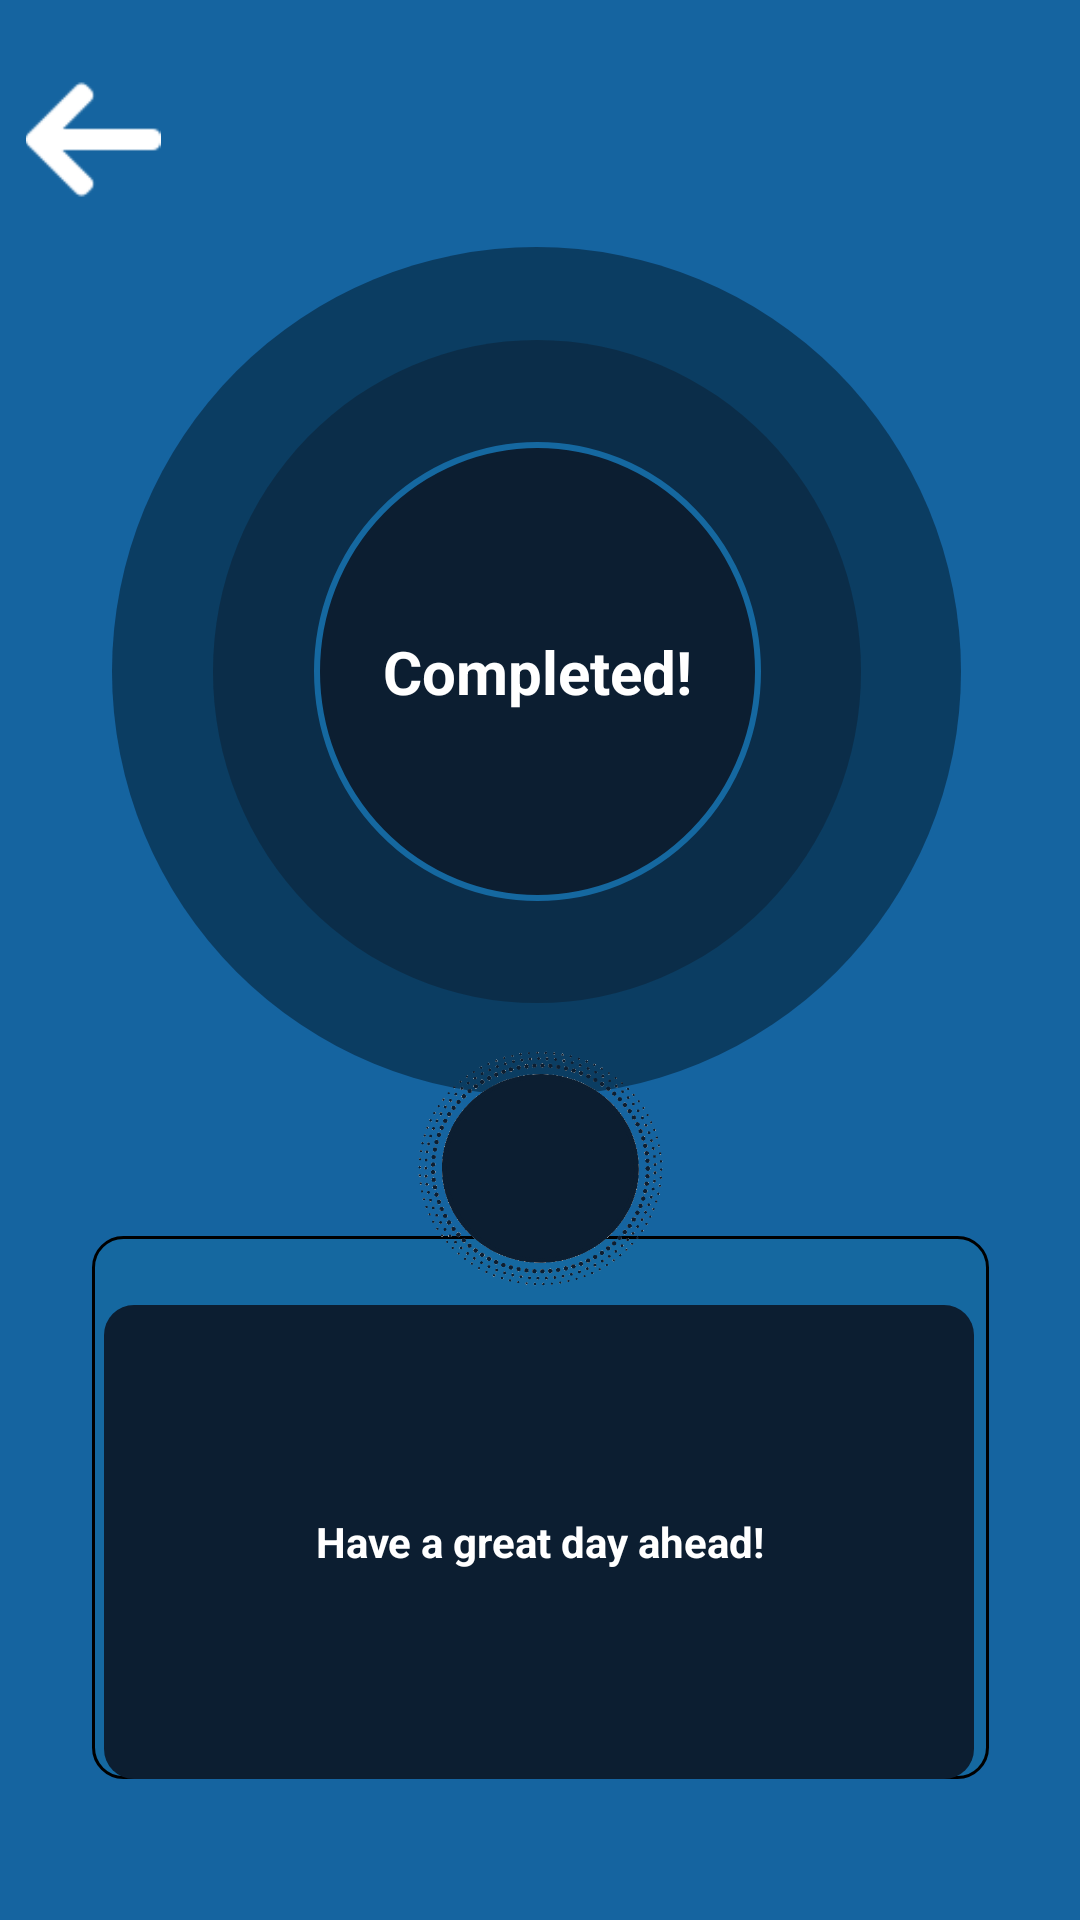

Icon bounding boxes for this 1080 × 1920 phone screenshot, format bbox=[x1, y1, x2, y2]:
back: bbox=[26, 82, 161, 197]
